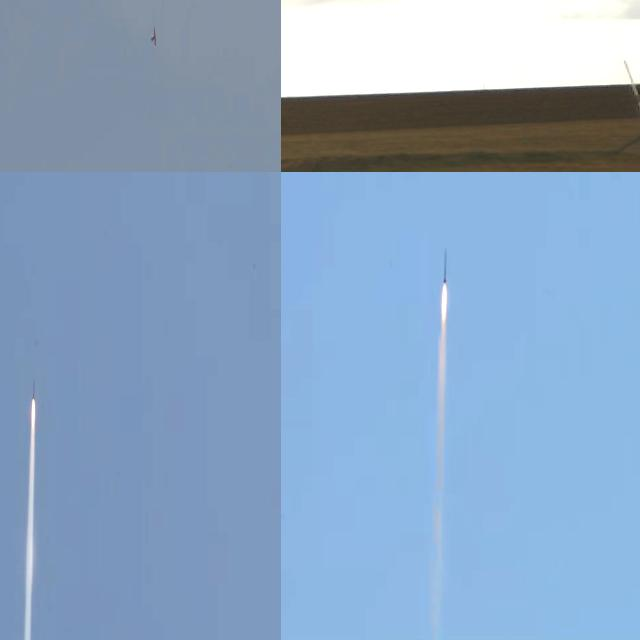Rocket: (443, 247, 447, 284), (32, 380, 35, 401)
